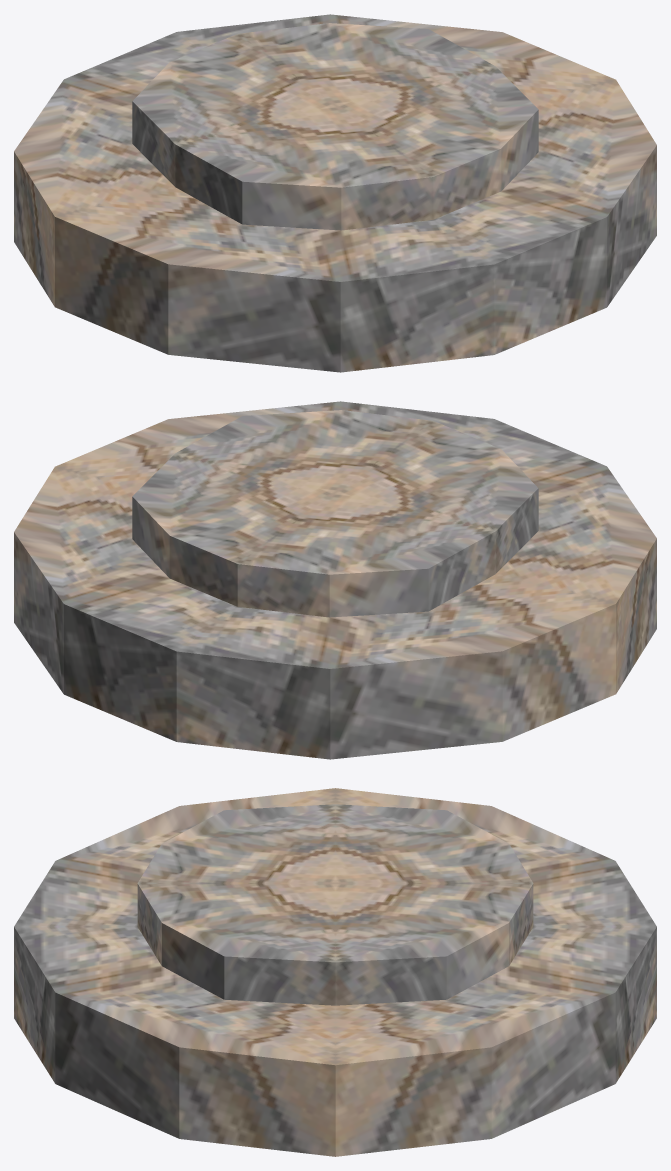
The model's file is itemholder.gltf.
3 views of the same model, one above another, from view 1: azimuth 30°, elevation 25°; view 2: azimuth 150°, elevation 25°; view 3: azimuth 270°, elevation 25° (orthographic).
Visible parts, largest first — view 1: Cube; view 2: Cube; view 3: Cube.
Boxes of the visible parts, left/top/right/bottom form: Cube: left=14, top=14, right=656, bottom=372; Cube: left=14, top=401, right=656, bottom=759; Cube: left=14, top=788, right=656, bottom=1156.
Bounding box in the file's own units: 1.97 × 0.4479 × 1.93.
Materials: 1 (1 with a texture image).
